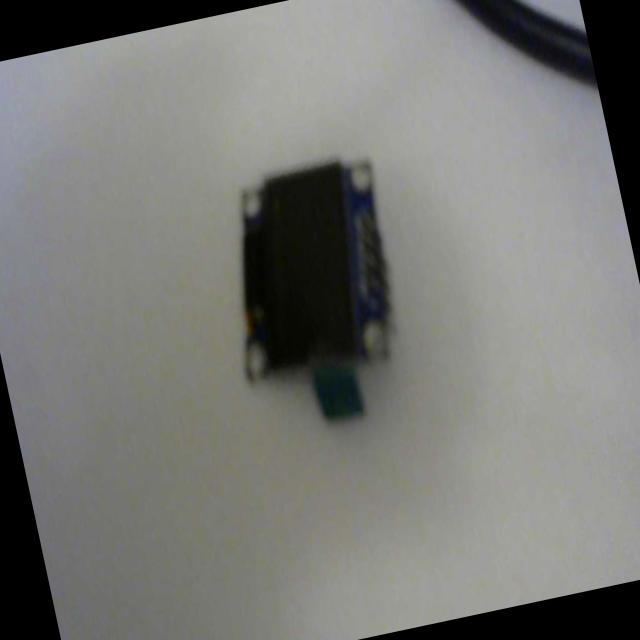oled: (198, 144, 435, 448)
